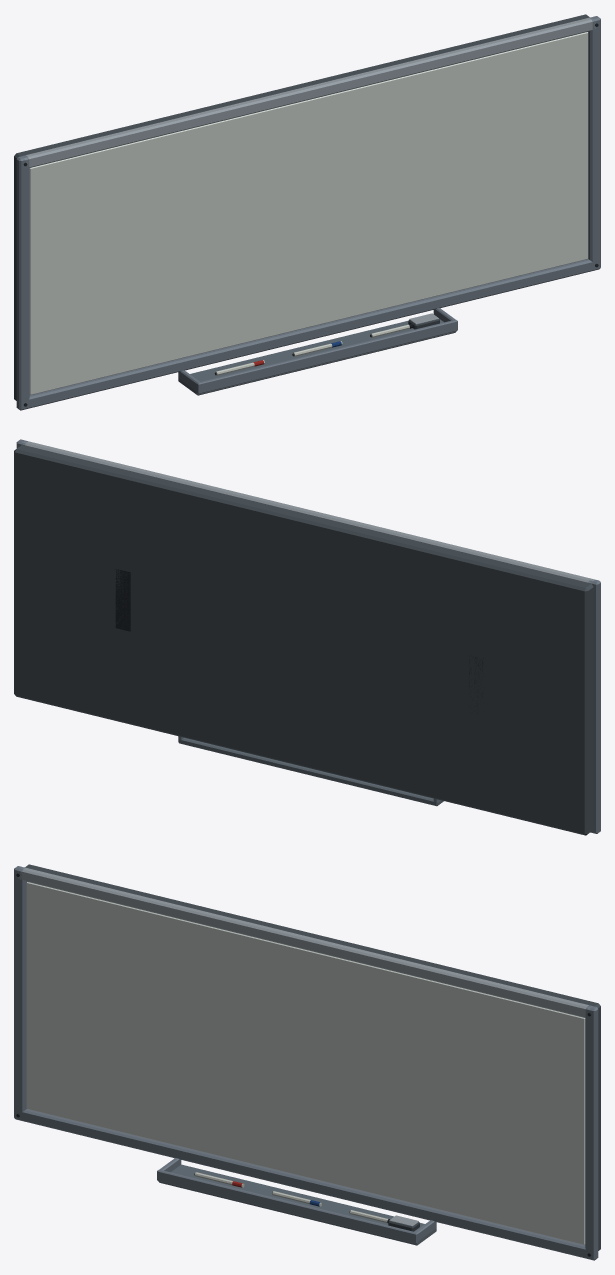
Rendered from 0-20261016-1900-ev012-r02-collab-whiteboardwall.fbx.
3 renders of one model, top to bottom at view 1: azimuth 30°, elevation 25°; view 2: azimuth 150°, elevation 25°; view 3: azimuth 330°, elevation 25°, orthographic.
Visible parts, largest first — view 1: SW_Collab_WhiteboardWall; view 2: SW_Collab_WhiteboardWall; view 3: SW_Collab_WhiteboardWall.
Boxes of the visible parts, x1,y1,x2,y2 form: SW_Collab_WhiteboardWall: (14,14,600,410); SW_Collab_WhiteboardWall: (14,439,600,835); SW_Collab_WhiteboardWall: (14,864,600,1260).
Size of the model in its own units: 300 by 130 by 25.5.
